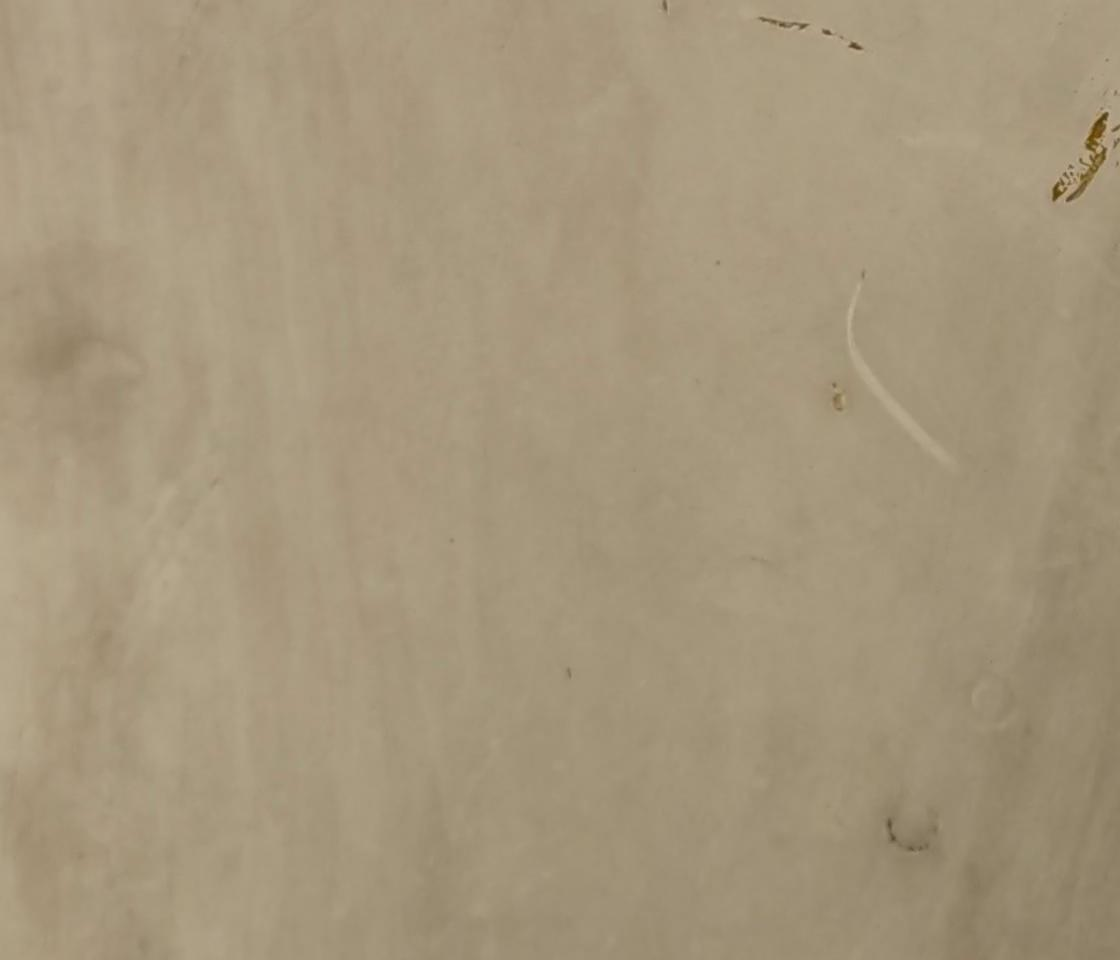scratch: (747, 10, 868, 54)
